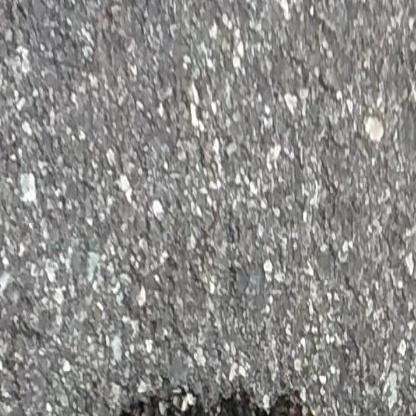Cracks: (95, 372, 416, 416)
